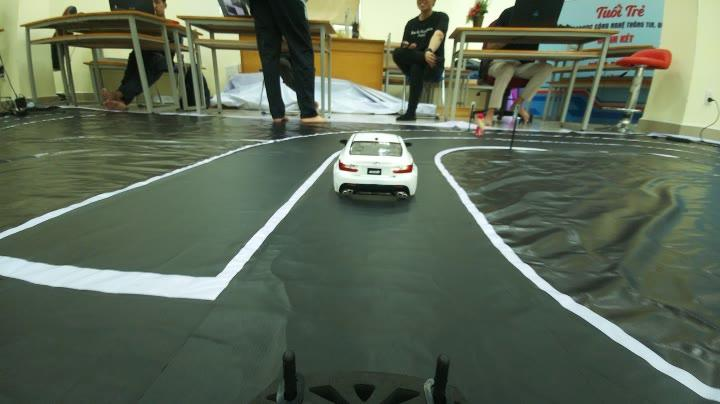car: (327, 118, 426, 208)
